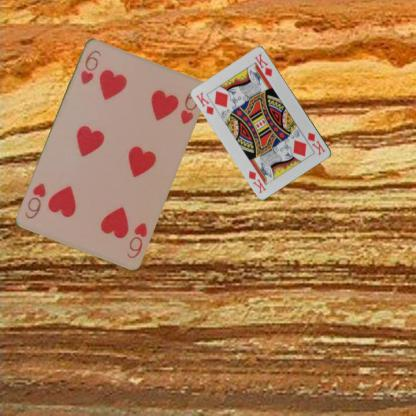6h: (123, 219, 149, 260), (78, 47, 102, 85)
Kd: (305, 130, 327, 157), (193, 90, 215, 116)
